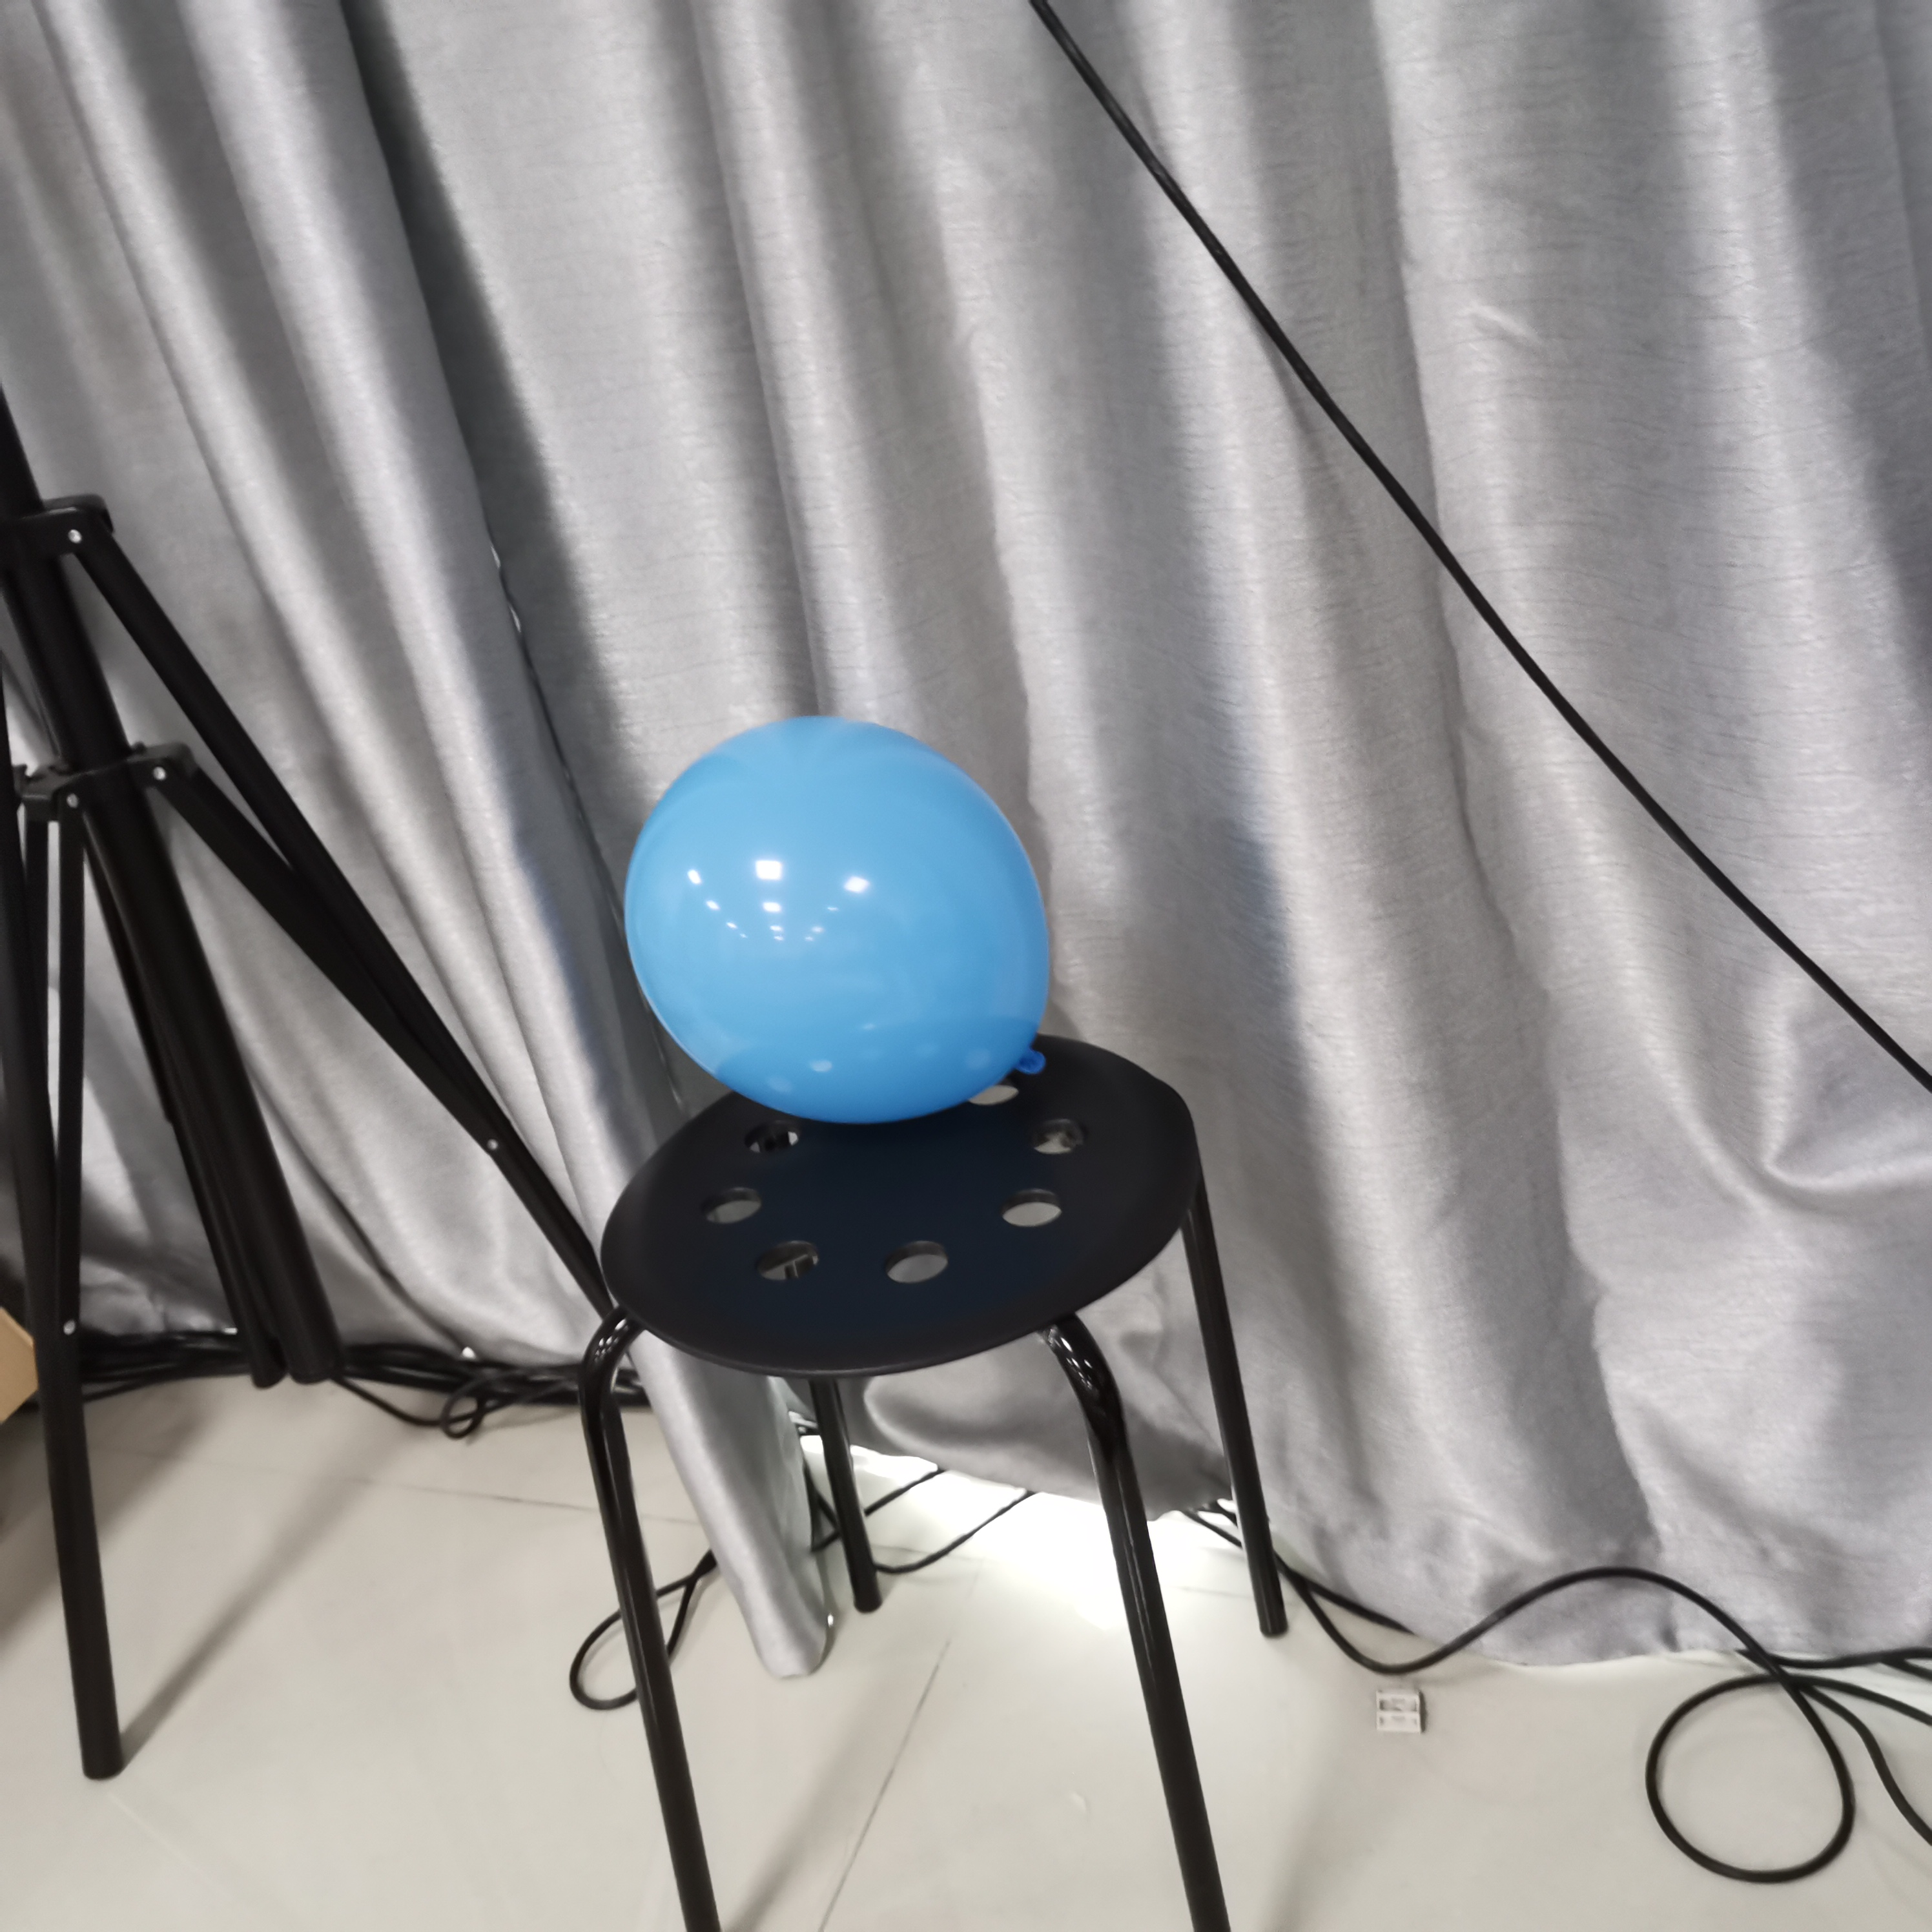balloon: (621, 720, 1062, 1129)
